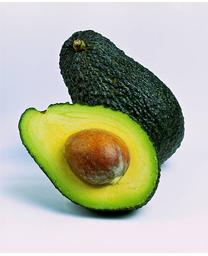avocado: (57, 29, 185, 172), (17, 102, 161, 216)
